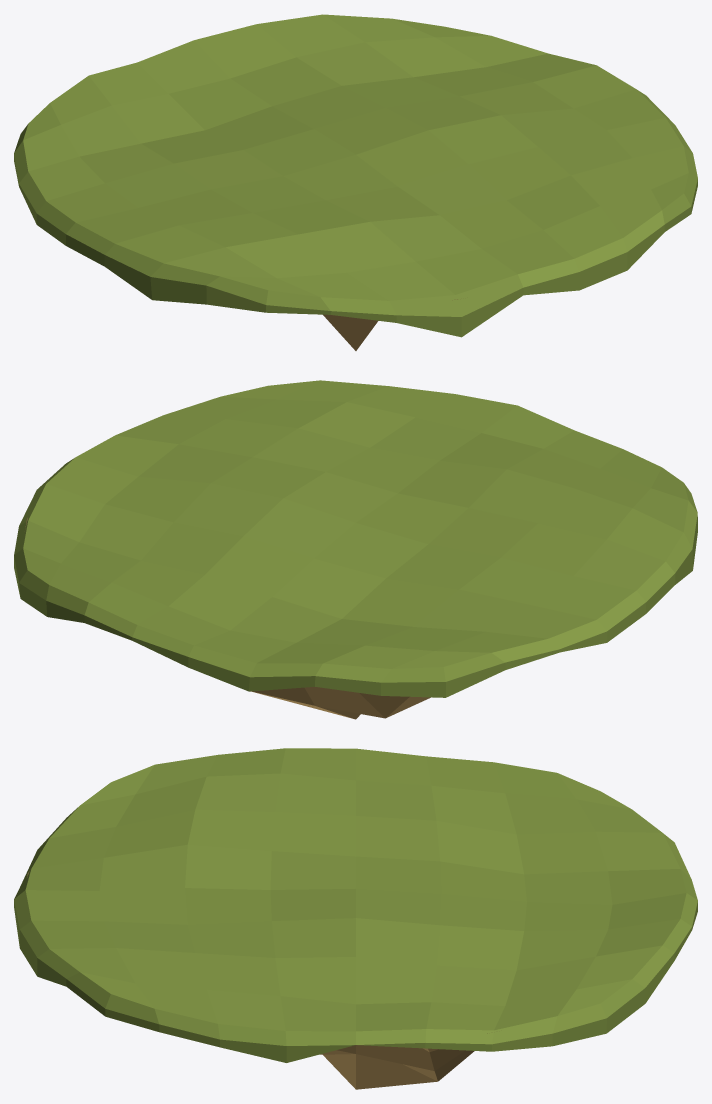
The model's file is platforme_petit1.fbx.
3 views of the same model, one above another, from view 1: azimuth 30°, elevation 25°; view 2: azimuth 150°, elevation 25°; view 3: azimuth 270°, elevation 25° (orthographic). The views are drawn at different scales.
Parts seen in each view (by area): view 1: Plane.006; view 2: Plane.006; view 3: Plane.006.
Part boxes in pixels (bbox=[...]): Plane.006: bbox=[14, 14, 697, 350]; Plane.006: bbox=[14, 380, 697, 719]; Plane.006: bbox=[14, 748, 697, 1089].
Size of the model in its own units: 246 by 84.3 by 246.
